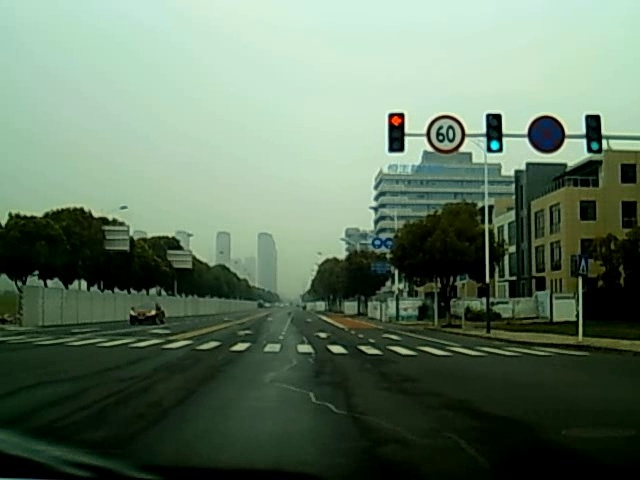Traffic_Light_go: (584, 115, 601, 152), (486, 115, 501, 155)
Traffic_Light_stop: (388, 115, 402, 148)
